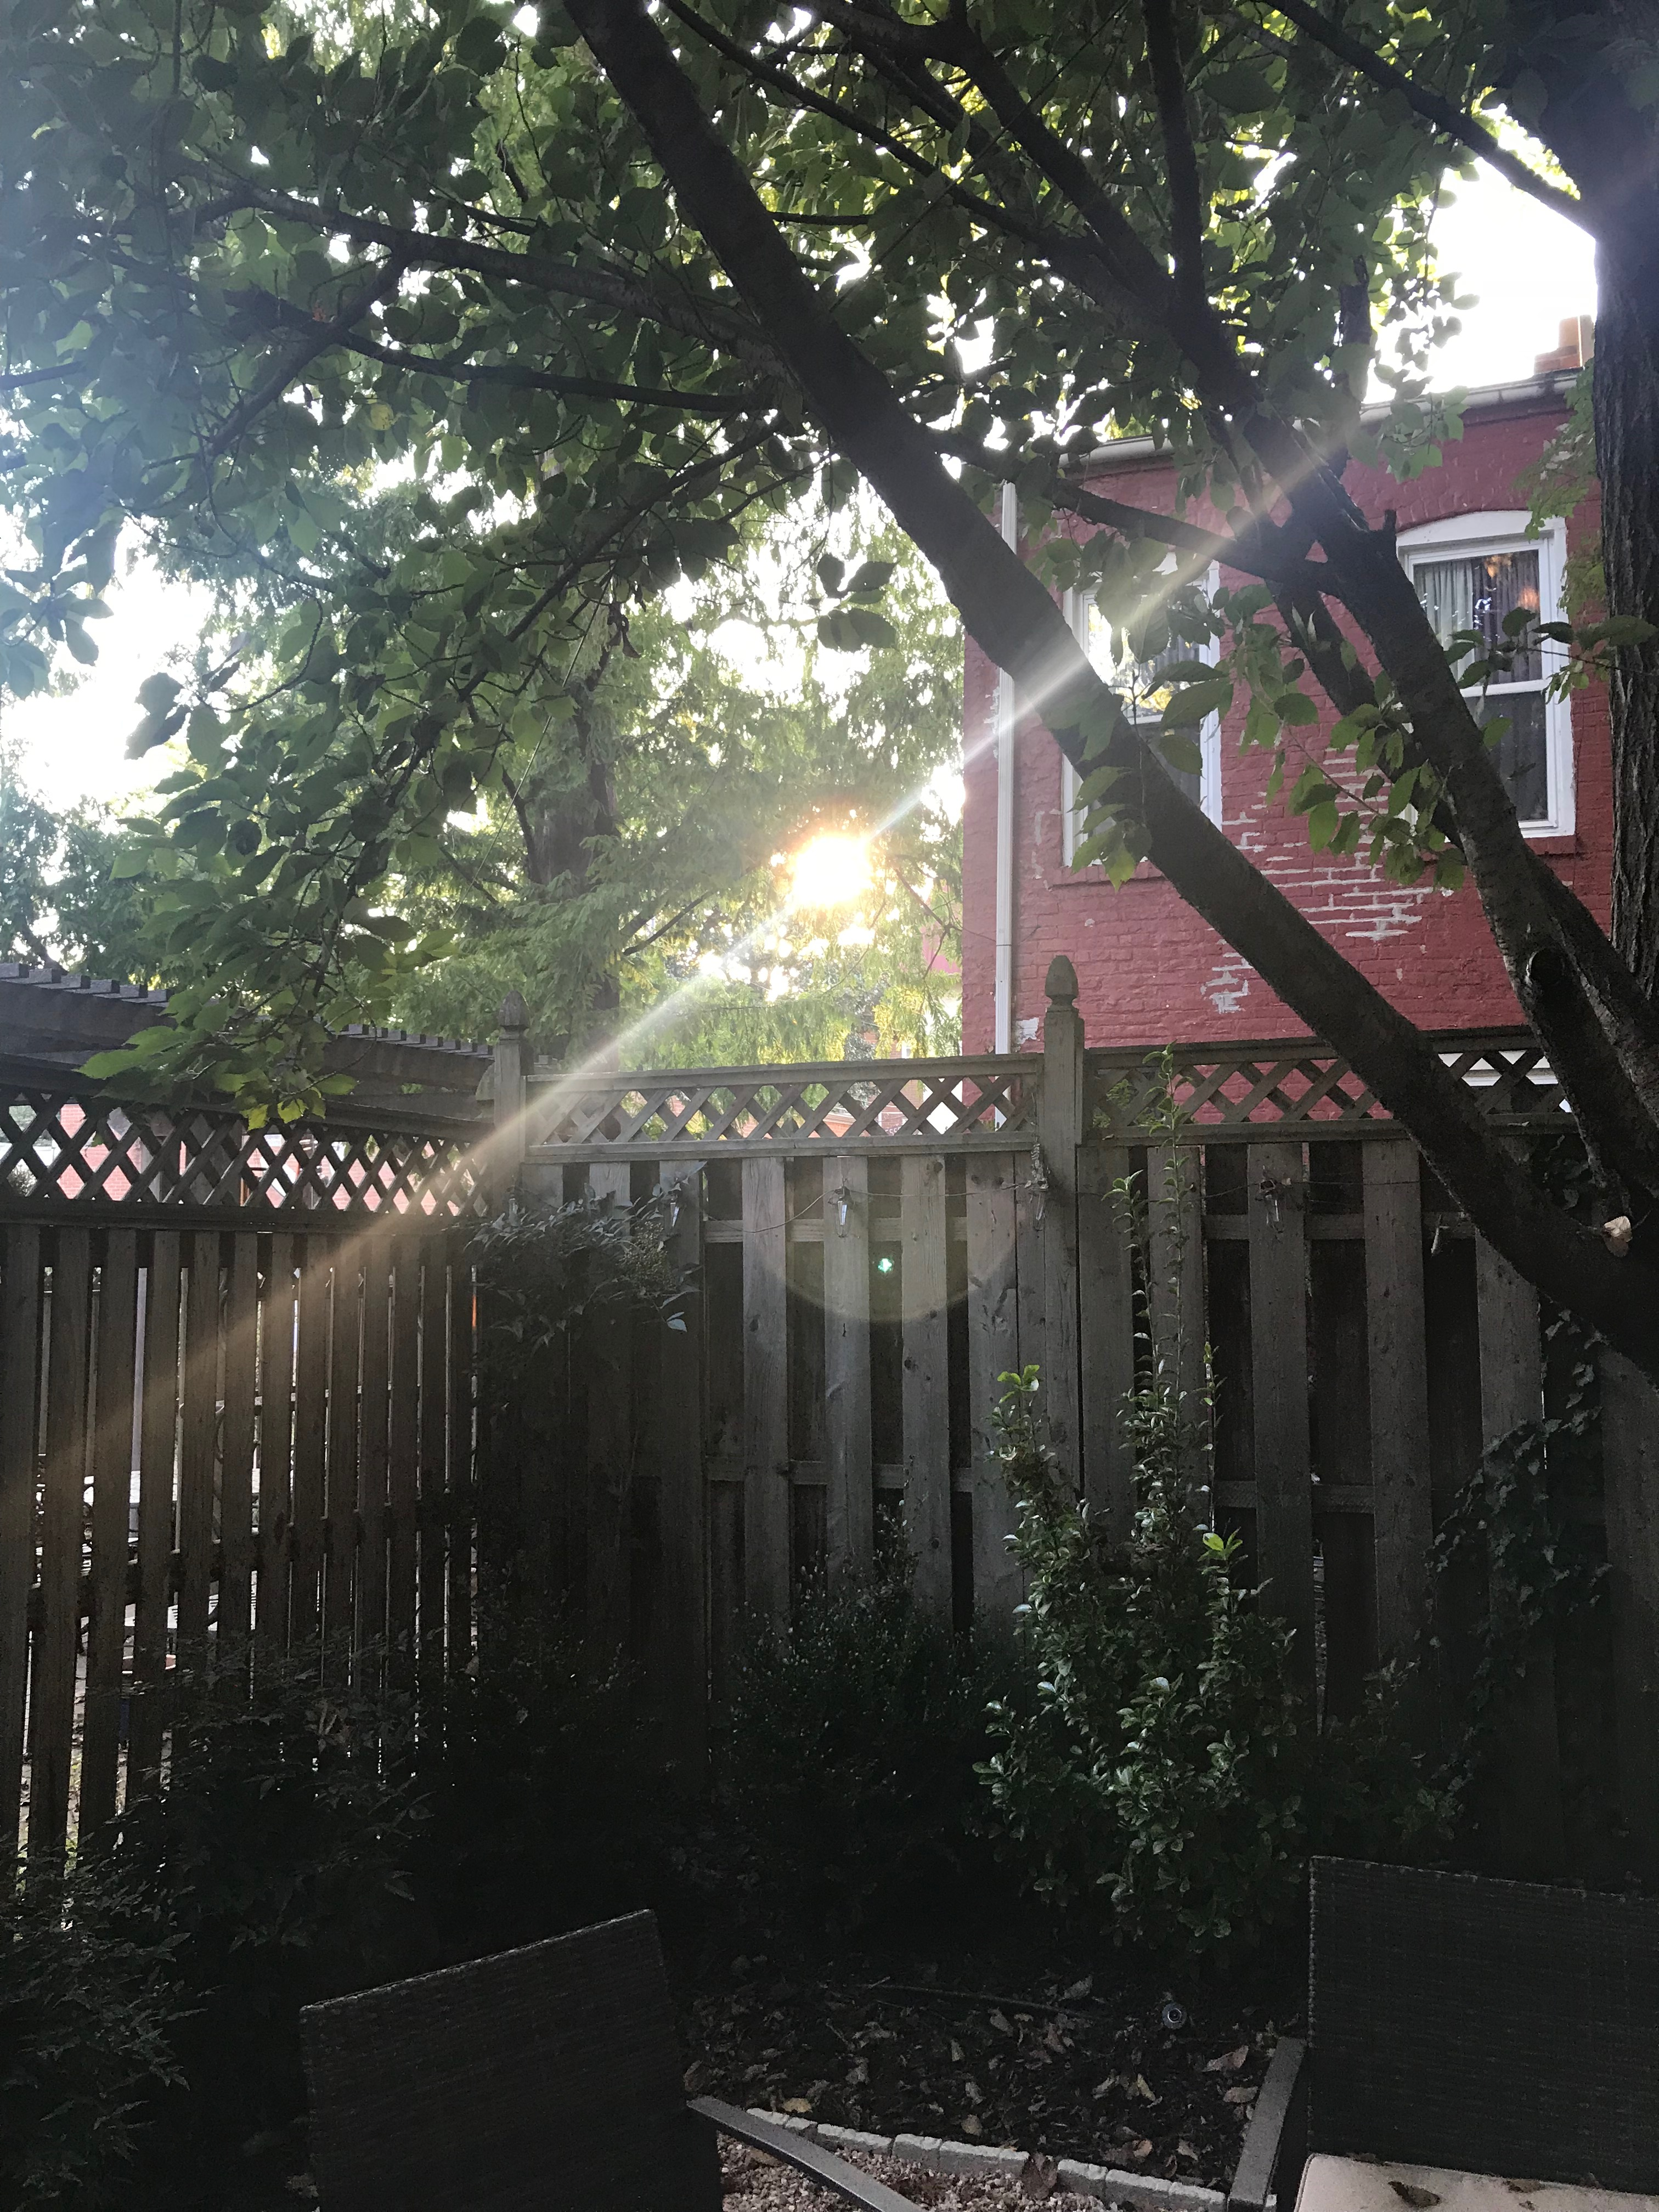flare: (877, 1258, 896, 1273)
